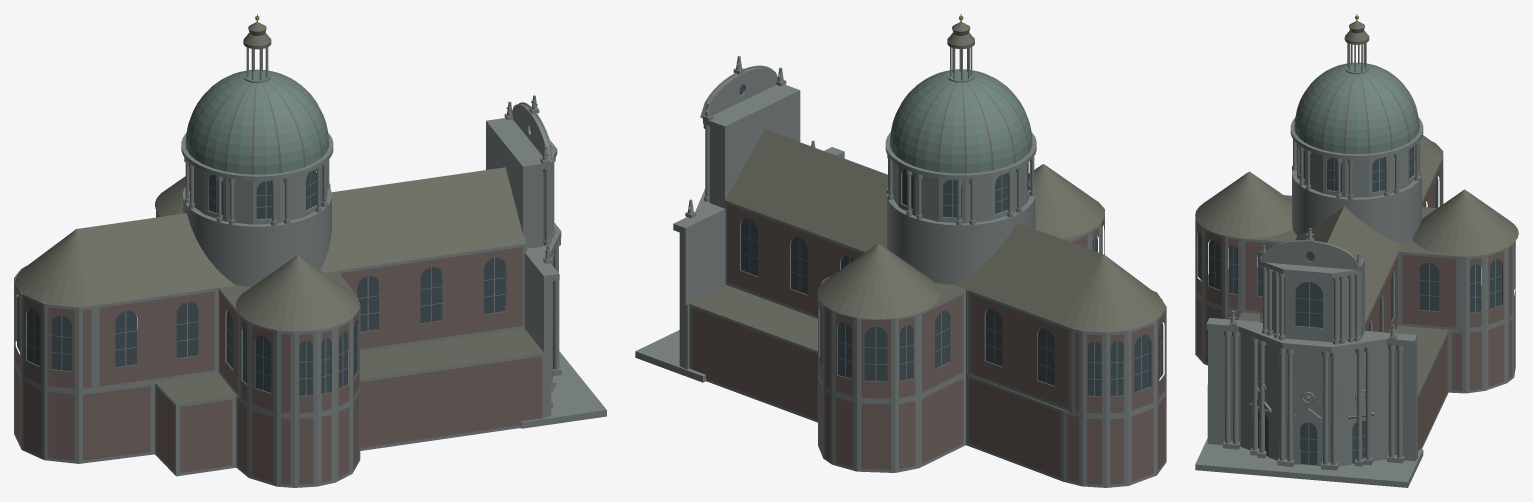
File: namur-saint-aubin-near.glb
The picture shows the model from 3 angles, left to right: view 1: azimuth 30°, elevation 25°; view 2: azimuth 150°, elevation 25°; view 3: azimuth 270°, elevation 25°; orthographic projection. The views are drawn at different scales.
Visible parts, largest first — view 1: namur-saint-aubin-0-brick, namur-saint-aubin-0-stone, namur-saint-aubin-0-roof, namur-saint-aubin-0-glass, namur-saint-aubin-0-copper; view 2: namur-saint-aubin-0-stone, namur-saint-aubin-0-brick, namur-saint-aubin-0-roof, namur-saint-aubin-0-glass, namur-saint-aubin-0-copper; view 3: namur-saint-aubin-0-stone, namur-saint-aubin-0-roof, namur-saint-aubin-0-brick, namur-saint-aubin-0-copper, namur-saint-aubin-0-glass.
Boxes of the visible parts, left/top/right/bottom form: namur-saint-aubin-0-brick: left=15, top=214, right=542, bottom=484; namur-saint-aubin-0-stone: left=14, top=47, right=606, bottom=487; namur-saint-aubin-0-roof: left=14, top=22, right=545, bottom=404; namur-saint-aubin-0-glass: left=17, top=125, right=531, bottom=395; namur-saint-aubin-0-copper: left=185, top=69, right=328, bottom=174; namur-saint-aubin-0-stone: left=635, top=47, right=1166, bottom=487; namur-saint-aubin-0-brick: left=692, top=204, right=1165, bottom=484; namur-saint-aubin-0-roof: left=684, top=22, right=1166, bottom=412; namur-saint-aubin-0-glass: left=739, top=84, right=1163, bottom=396; namur-saint-aubin-0-copper: left=890, top=69, right=1032, bottom=173; namur-saint-aubin-0-stone: left=1195, top=43, right=1515, bottom=487; namur-saint-aubin-0-roof: left=1195, top=21, right=1518, bottom=402; namur-saint-aubin-0-brick: left=1196, top=160, right=1515, bottom=451; namur-saint-aubin-0-copper: left=1294, top=62, right=1419, bottom=154; namur-saint-aubin-0-glass: left=1198, top=146, right=1501, bottom=465.
Size of the model in its own units: 82.77 by 61 by 51.63.
